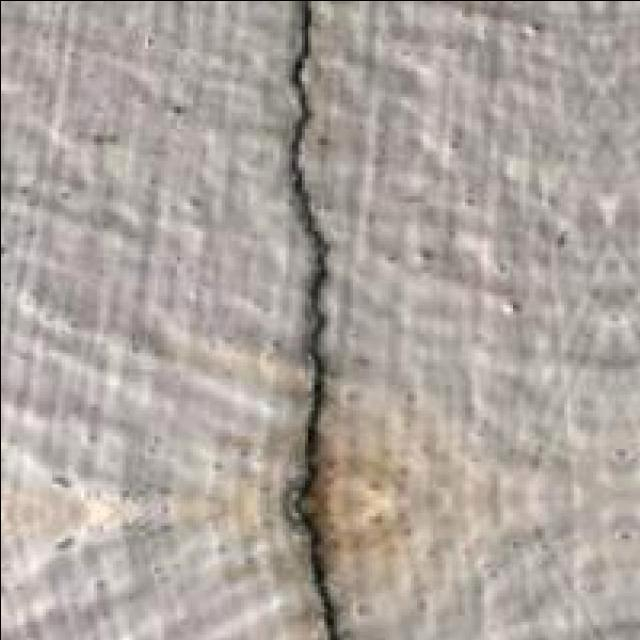SurfaceCrack: (250, 0, 380, 640)
